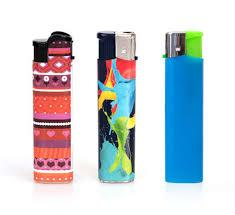lighter: (30, 31, 75, 185), (165, 29, 205, 186), (98, 28, 137, 184)
